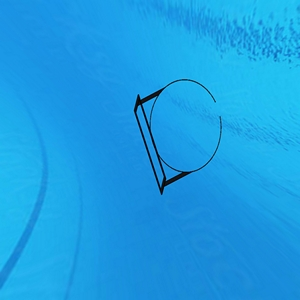circle: (134, 75, 223, 197)
